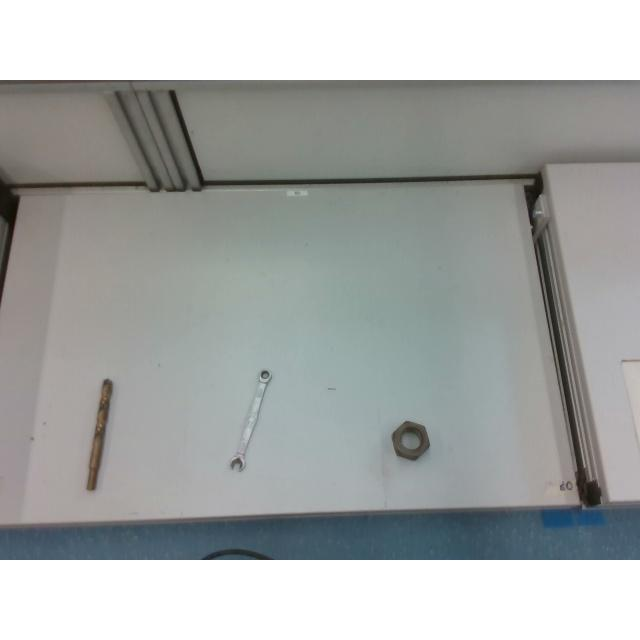Drill: (86, 378, 112, 489)
M30: (391, 420, 429, 460)
Wrench: (229, 369, 271, 471)
